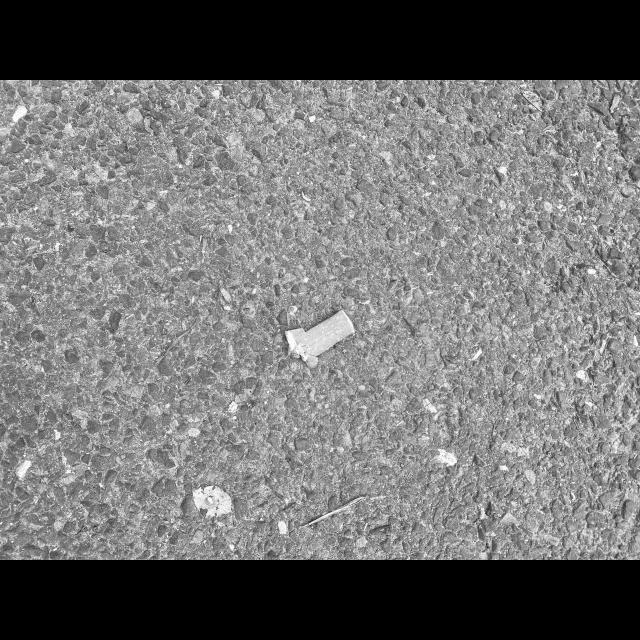cigarette: (285, 309, 355, 369)
